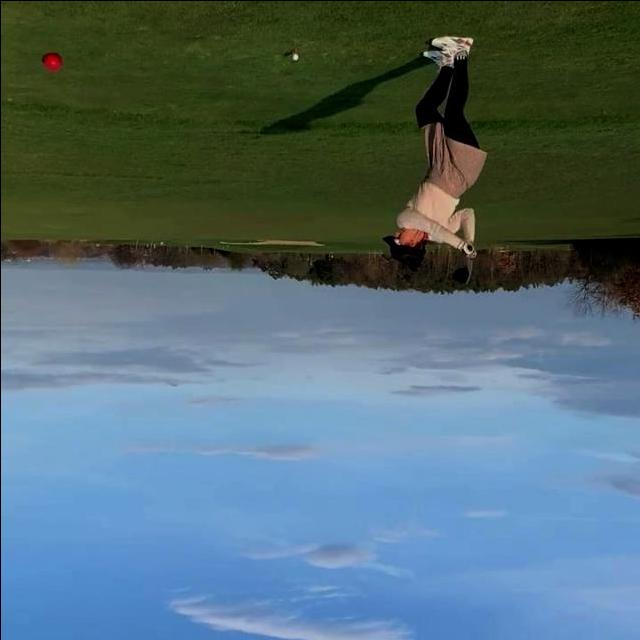ClubHandle: (452, 243, 476, 283)
ClubHead: (453, 271, 468, 284)
GolfBall: (291, 52, 299, 60)
